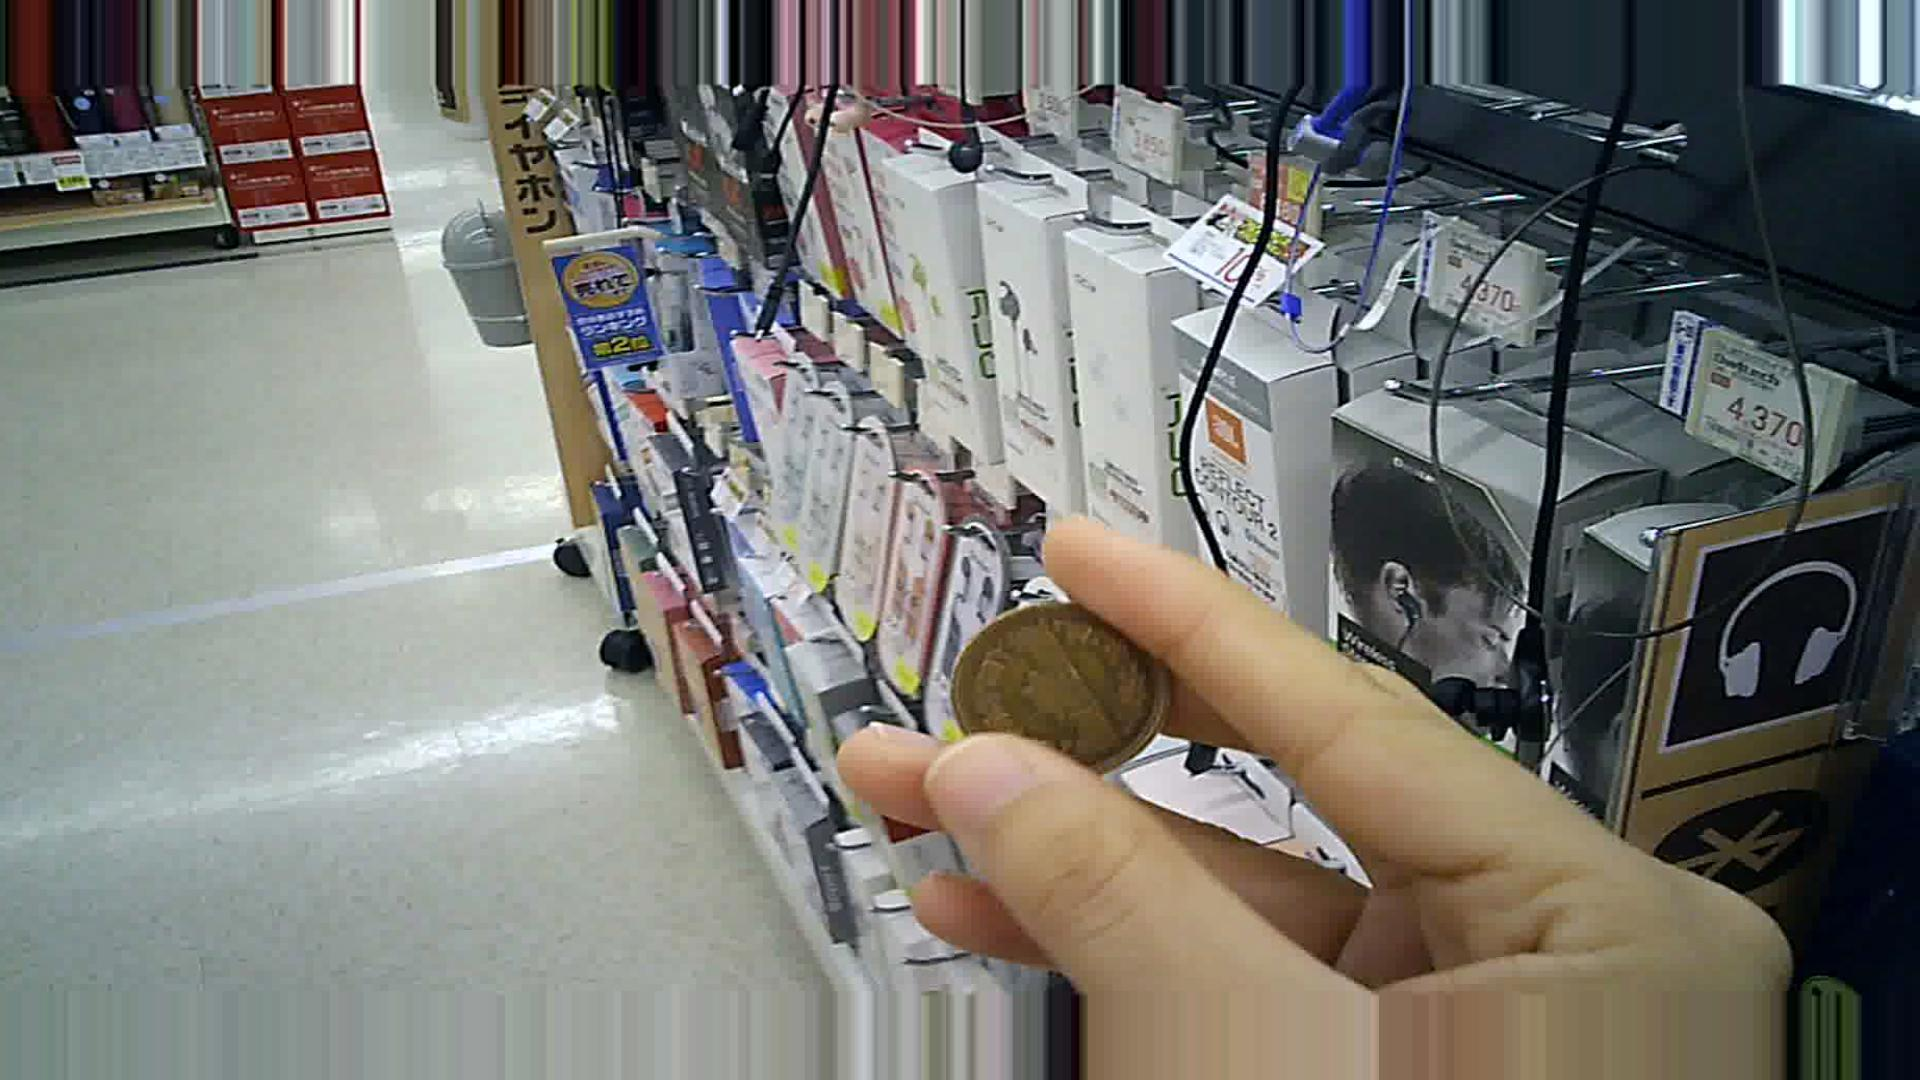10 Yen: (944, 607, 1174, 786)
